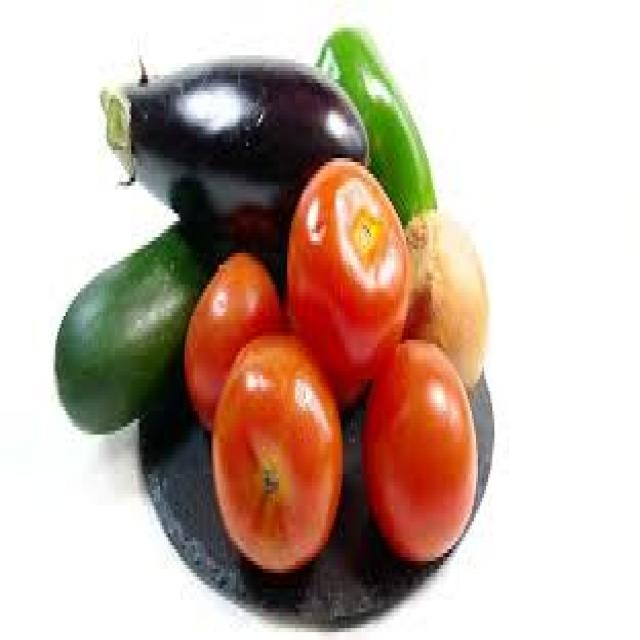organic waste: (99, 51, 367, 269), (52, 217, 212, 431), (283, 154, 408, 399), (210, 332, 338, 565), (361, 332, 476, 561), (314, 24, 433, 225), (183, 249, 283, 427), (402, 206, 484, 391)
